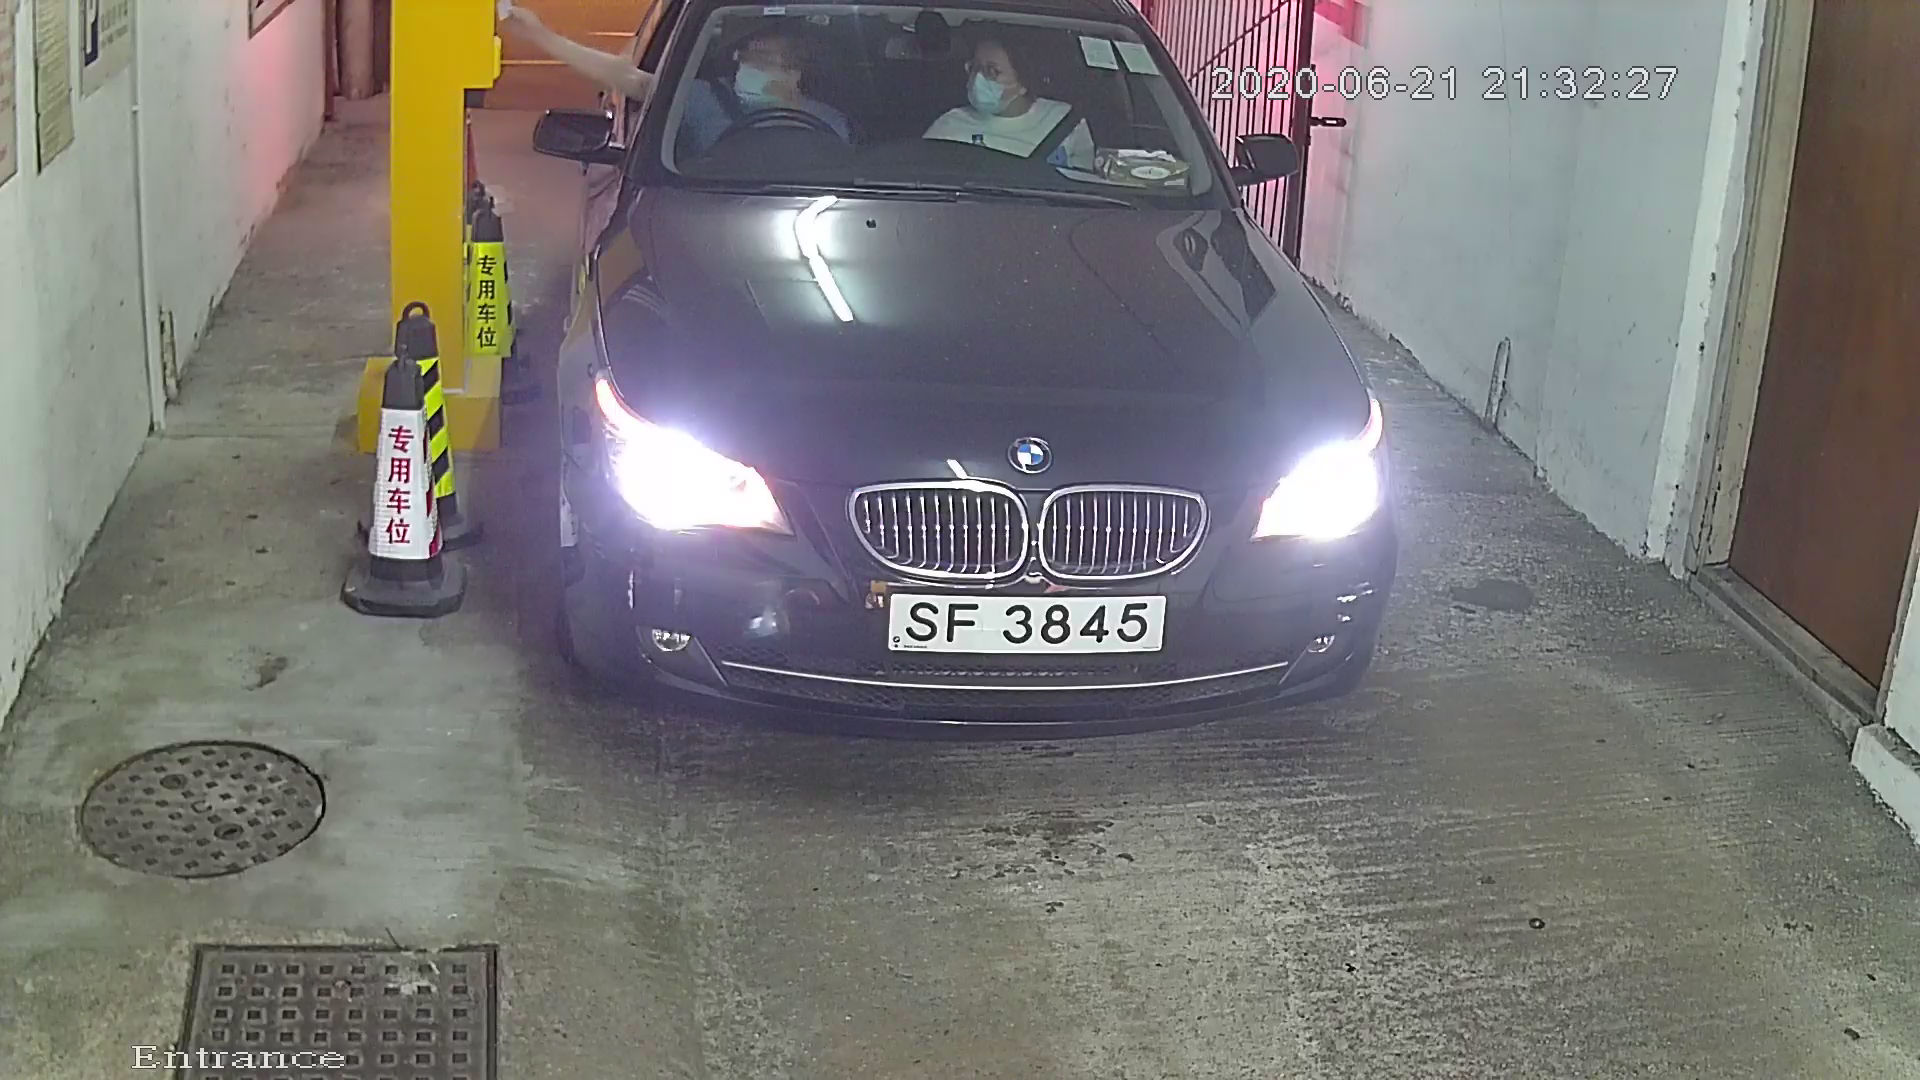privatecar: (497, 3, 1453, 761)
